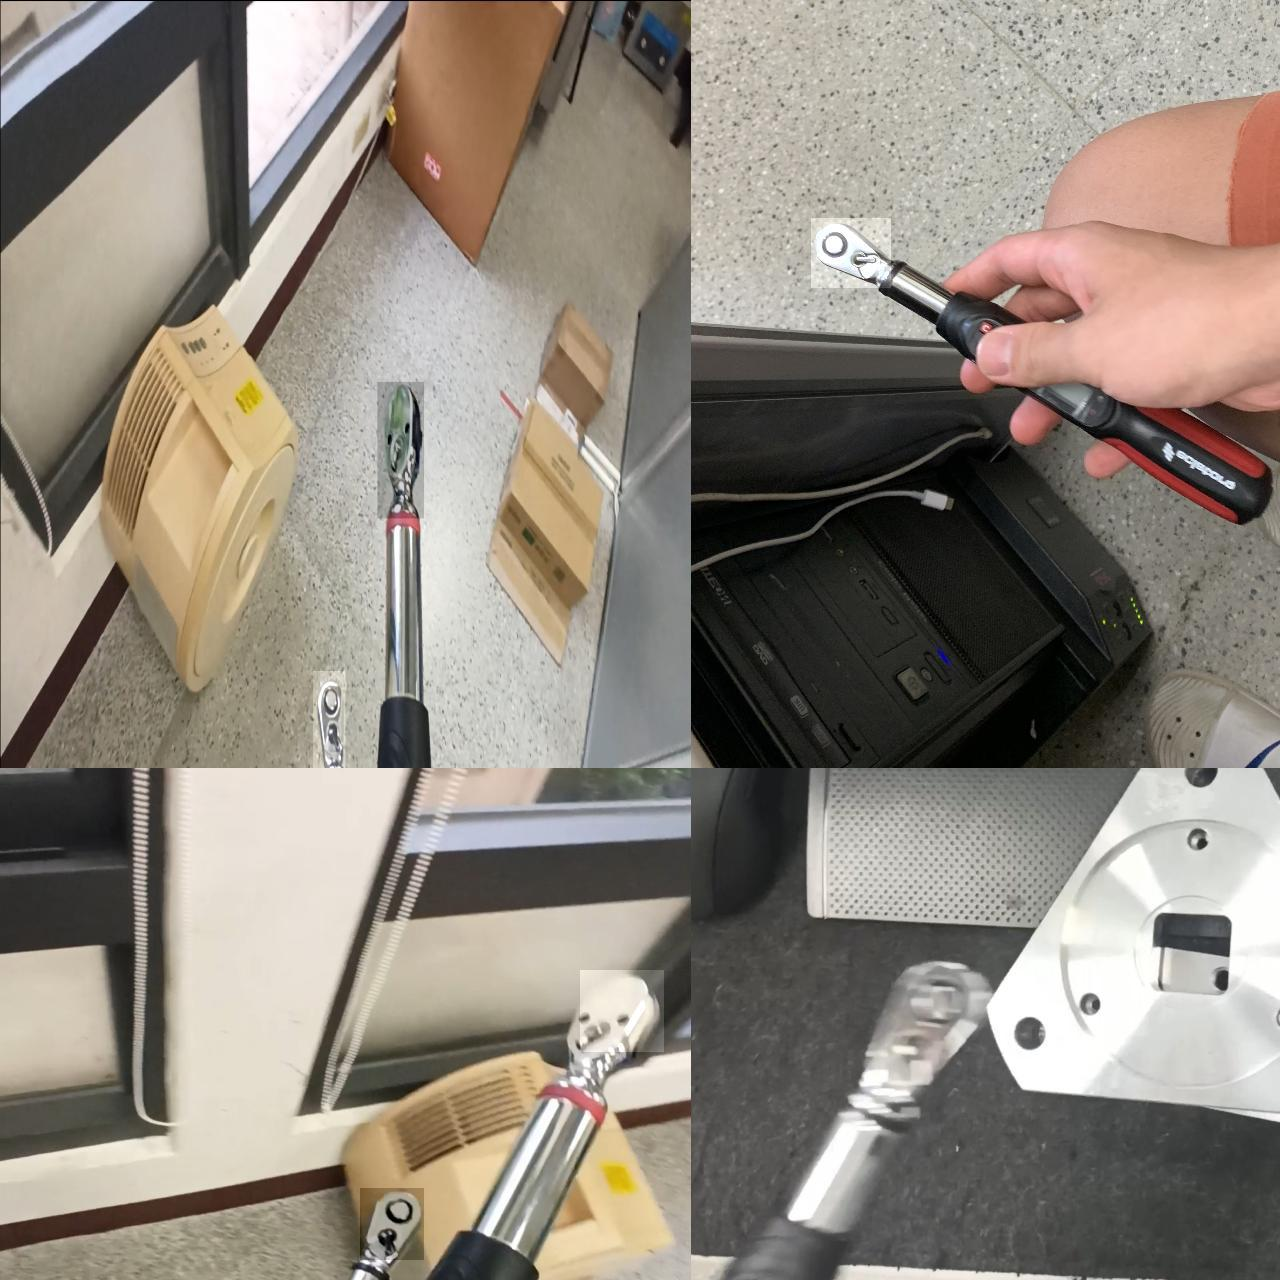Tool: (579, 969, 663, 1051), (376, 381, 423, 517), (810, 217, 890, 287), (359, 1187, 423, 1259), (313, 670, 346, 768)
